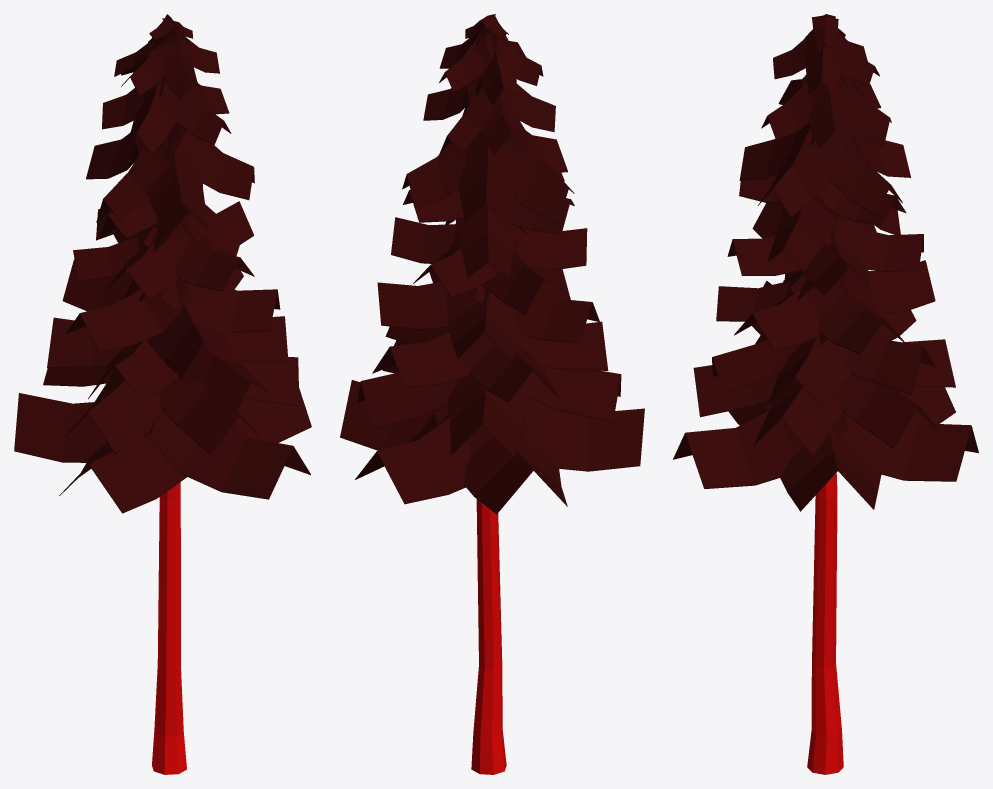
File: Pine tree large.fbx
3 renders of one model, left to right at view 1: azimuth 30°, elevation 25°; view 2: azimuth 150°, elevation 25°; view 3: azimuth 270°, elevation 25°, orthographic.
Visible parts, largest first — view 1: SM_Tree_Pine_Large_02; view 2: SM_Tree_Pine_Large_02; view 3: SM_Tree_Pine_Large_02.
Boxes of the visible parts, left/top/right/bottom form: SM_Tree_Pine_Large_02: left=14, top=14, right=311, bottom=774; SM_Tree_Pine_Large_02: left=340, top=14, right=644, bottom=774; SM_Tree_Pine_Large_02: left=673, top=14, right=978, bottom=774.
Bounding box in the file's own units: 314 × 860 × 317.
